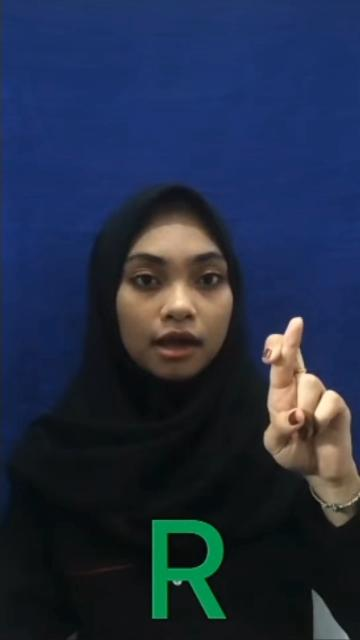R: (256, 313, 358, 485)
